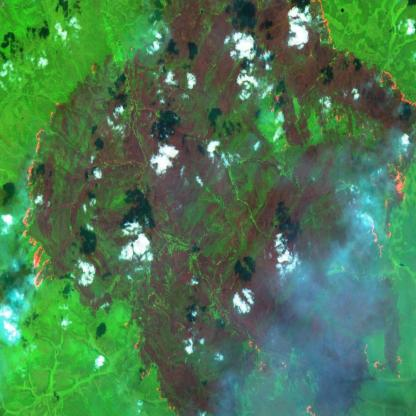fire: (19, 97, 61, 296), (107, 305, 179, 416), (366, 152, 407, 256), (375, 49, 416, 115), (310, 0, 338, 48), (371, 354, 407, 382), (241, 329, 264, 370), (303, 399, 323, 416), (276, 356, 290, 374)
